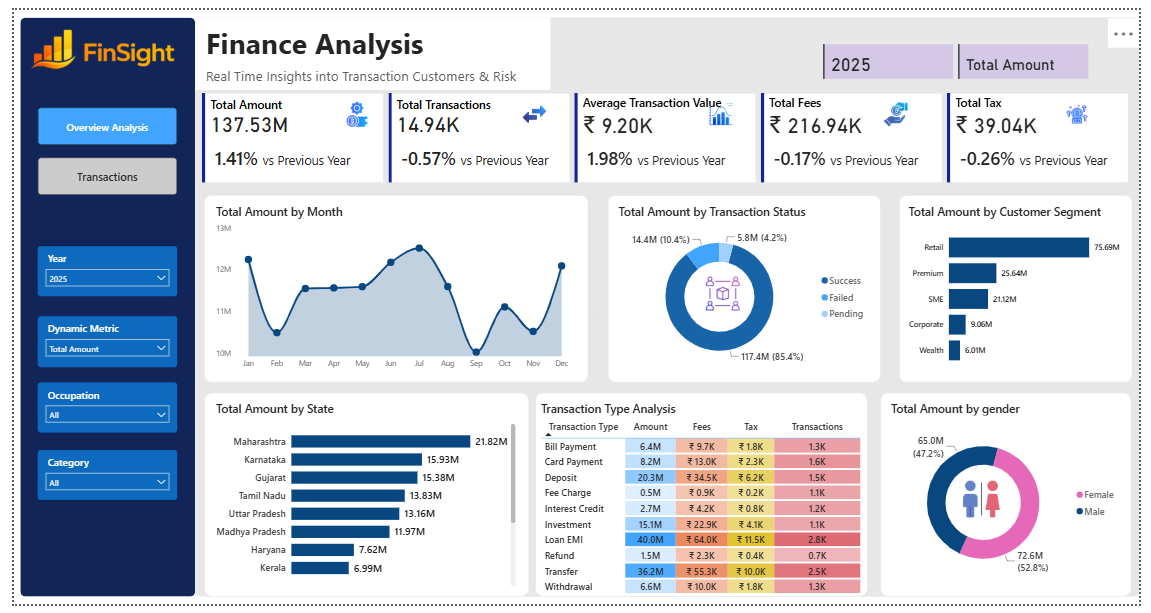

Layout of this report page (visuals, bound fields, positions):
{"tool":"powerbi","page":{"name":"Overview Analysis","canvas":[1800,950],"ordinal":0},"visuals":[{"type":"shape","box":[10,11.7,280,926.7],"z":0},{"type":"image","box":[0,11.7,290,103.3],"z":1000},{"type":"cardVisual","fields":{"Data":["finance_transactions.Dashboard Title"]},"box":[838.3,418.3,536.7,113.3],"z":2000},{"type":"shape","box":[290,11.7,1510,926.7],"z":3000},{"type":"cardVisual","fields":{"Data":["finance_transactions.Dashboard Title"]},"box":[290,11.7,568,116],"z":4000},{"type":"cardVisual","fields":{"Data":["finance_transactions.Total Amount","finance_transactions.Total Transactions","finance_transactions.Average Transaction Value","finance_transactions.Total Fees","finance_transactions.Total Tax"]},"box":[295,128.3,1493.3,153.3],"z":5000},{"type":"slicer","fields":{"Values":["Calendar Table.Year"]},"box":[38.3,378.3,223.3,80],"z":6000},{"type":"image","box":[523.3,141.7,50,50],"z":7000},{"type":"image","box":[808.3,141.7,50,50],"z":8000},{"type":"image","box":[1386.7,141.7,50,50],"z":9000},{"type":"image","box":[1106.7,141.7,50,50],"z":10000},{"type":"image","box":[1675,141.7,50,50],"z":11000},{"type":"slicer","fields":{"Values":["Dynamic Metric.Dynamic Metric"]},"box":[38.3,490,223.3,81.7],"z":12000},{"type":"shape","box":[303.3,296.7,615,300],"z":13000},{"type":"areaChart","fields":{"Category":["Calendar Table.Month"],"Y":["finance_transactions.Total Amount"]},"box":[318.3,310,581.7,273.3],"z":14000},{"type":"cardVisual","fields":{"Data":["finance_transactions.Selected Year","finance_transactions.Selected Dynamic Measures"]},"box":[1290,50,435,65],"z":15000},{"type":"shape","box":[950,296.7,436.7,300],"z":16000},{"type":"donutChart","fields":{"Category":["finance_transactions.transaction_status"],"Y":["finance_transactions.Total Amount"]},"box":[961.7,310,411.7,273.3],"z":17000},{"type":"shape","box":[1415,296.7,373.3,300],"z":18000},{"type":"barChart","fields":{"Category":["customers.customer_segment"],"Y":["finance_transactions.Total Amount"]},"box":[1426.7,310,348.3,273.3],"z":19000},{"type":"shape","box":[303.3,611.7,520,326.7],"z":20000},{"type":"barChart","fields":{"Category":["customers.state"],"Y":["finance_transactions.Total Amount"]},"box":[318.3,623.3,490,303.3],"z":21000},{"type":"shape","box":[833.3,611.7,531.7,326.7],"z":22000},{"type":"tableEx","title":"Transaction Type Analysis","fields":{"Values":["finance_transactions.transaction_type","finance_transactions.Total Amount","finance_transactions.Total Fees","finance_transactions.Total Tax","finance_transactions.Total Transactions"]},"box":[838.3,623.3,521.7,315],"z":23000},{"type":"shape","box":[1386.7,611.7,401.7,326.7],"z":24000},{"type":"donutChart","fields":{"Category":["customers.gender"],"Y":["finance_transactions.Total Amount"]},"box":[1398.3,623.3,376.7,303.3],"z":25000},{"type":"image","box":[1100,418.3,68.3,71.7],"z":26000},{"type":"image","box":[1508.3,743.3,80,76.7],"z":27000},{"type":"slicer","fields":{"Values":["customers.occupation"]},"box":[38.3,596.7,223.3,80],"z":28000},{"type":"slicer","fields":{"Values":["finance_transactions.merchant_category"]},"box":[38.3,703.3,223.3,80],"z":29000},{"type":"pageNavigator","box":[38.3,156.7,223.3,140],"z":30000}]}

Visuals, with their boxes in screenshot pixels (x1, y1, x2, y2), scaled from the page's 1800x950 canvas onto the 1151x613 screenshot:
shape: {"x1": 6, "y1": 8, "x2": 185, "y2": 606}
image: {"x1": 0, "y1": 8, "x2": 185, "y2": 74}
cardVisual - finance_transactions.Dashboard Title: {"x1": 536, "y1": 270, "x2": 879, "y2": 343}
shape: {"x1": 185, "y1": 8, "x2": 1150, "y2": 606}
cardVisual - finance_transactions.Dashboard Title: {"x1": 185, "y1": 8, "x2": 549, "y2": 82}
cardVisual - finance_transactions.Total Amount x finance_transactions.Total Transactions: {"x1": 189, "y1": 83, "x2": 1144, "y2": 182}
slicer - Calendar Table.Year: {"x1": 24, "y1": 244, "x2": 167, "y2": 296}
image: {"x1": 335, "y1": 91, "x2": 367, "y2": 124}
image: {"x1": 517, "y1": 91, "x2": 549, "y2": 124}
image: {"x1": 887, "y1": 91, "x2": 919, "y2": 124}
image: {"x1": 708, "y1": 91, "x2": 740, "y2": 124}
image: {"x1": 1071, "y1": 91, "x2": 1103, "y2": 124}
slicer - Dynamic Metric.Dynamic Metric: {"x1": 24, "y1": 316, "x2": 167, "y2": 369}
shape: {"x1": 194, "y1": 191, "x2": 587, "y2": 385}
areaChart - Calendar Table.Month x finance_transactions.Total Amount: {"x1": 204, "y1": 200, "x2": 576, "y2": 376}
cardVisual - finance_transactions.Selected Year x finance_transactions.Selected Dynamic Measures: {"x1": 825, "y1": 32, "x2": 1103, "y2": 74}
shape: {"x1": 607, "y1": 191, "x2": 887, "y2": 385}
donutChart - finance_transactions.transaction_status x finance_transactions.Total Amount: {"x1": 615, "y1": 200, "x2": 878, "y2": 376}
shape: {"x1": 905, "y1": 191, "x2": 1144, "y2": 385}
barChart - customers.customer_segment x finance_transactions.Total Amount: {"x1": 912, "y1": 200, "x2": 1135, "y2": 376}
shape: {"x1": 194, "y1": 395, "x2": 526, "y2": 606}
barChart - customers.state x finance_transactions.Total Amount: {"x1": 204, "y1": 402, "x2": 517, "y2": 598}
shape: {"x1": 533, "y1": 395, "x2": 873, "y2": 606}
"Transaction Type Analysis" tableEx: {"x1": 536, "y1": 402, "x2": 870, "y2": 605}
shape: {"x1": 887, "y1": 395, "x2": 1144, "y2": 606}
donutChart - customers.gender x finance_transactions.Total Amount: {"x1": 894, "y1": 402, "x2": 1135, "y2": 598}
image: {"x1": 703, "y1": 270, "x2": 747, "y2": 316}
image: {"x1": 964, "y1": 480, "x2": 1016, "y2": 529}
slicer - customers.occupation: {"x1": 24, "y1": 385, "x2": 167, "y2": 437}
slicer - finance_transactions.merchant_category: {"x1": 24, "y1": 454, "x2": 167, "y2": 505}
pageNavigator: {"x1": 24, "y1": 101, "x2": 167, "y2": 191}
